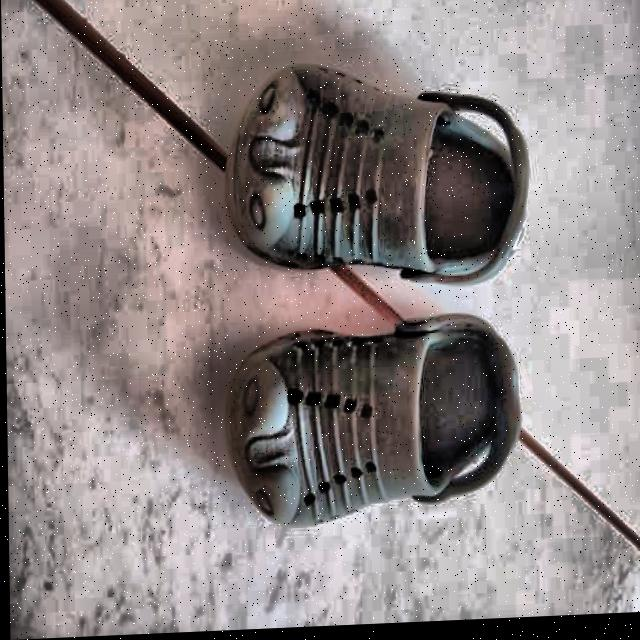shoes: (183, 9, 607, 582)
